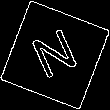N_SE: (26, 24, 84, 86)
